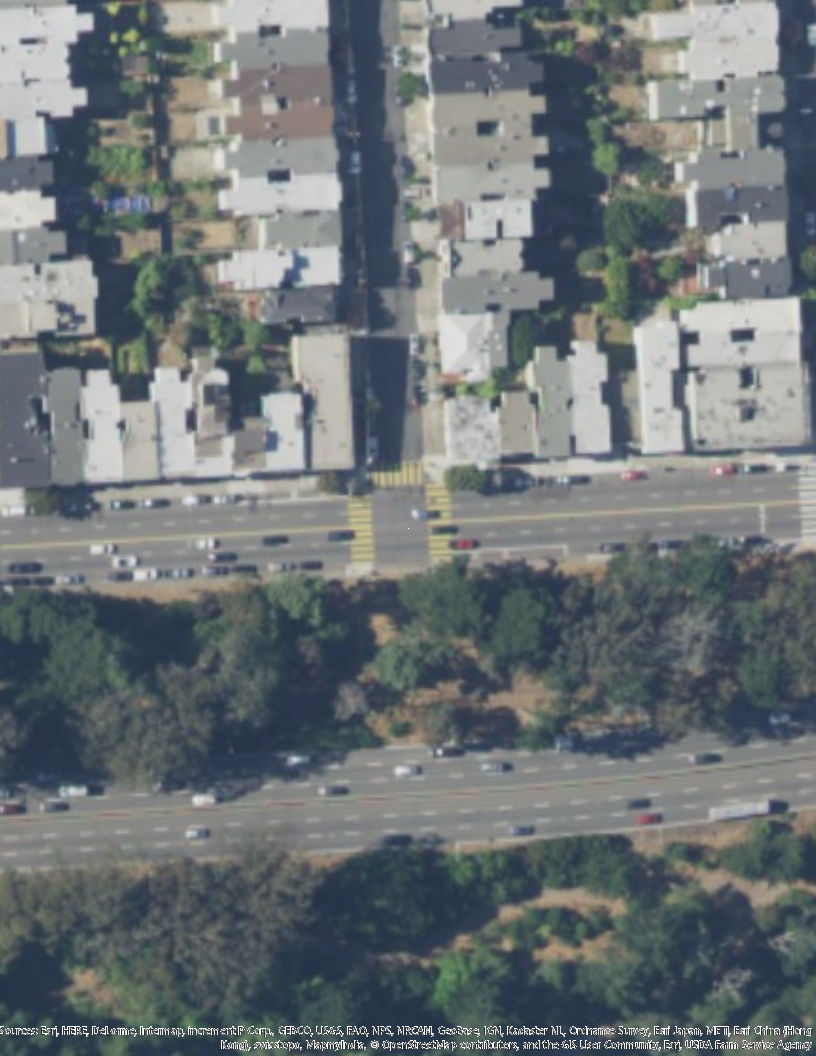zebracross: (346, 495, 375, 565), (428, 492, 454, 567), (371, 460, 427, 492), (799, 463, 816, 544)
